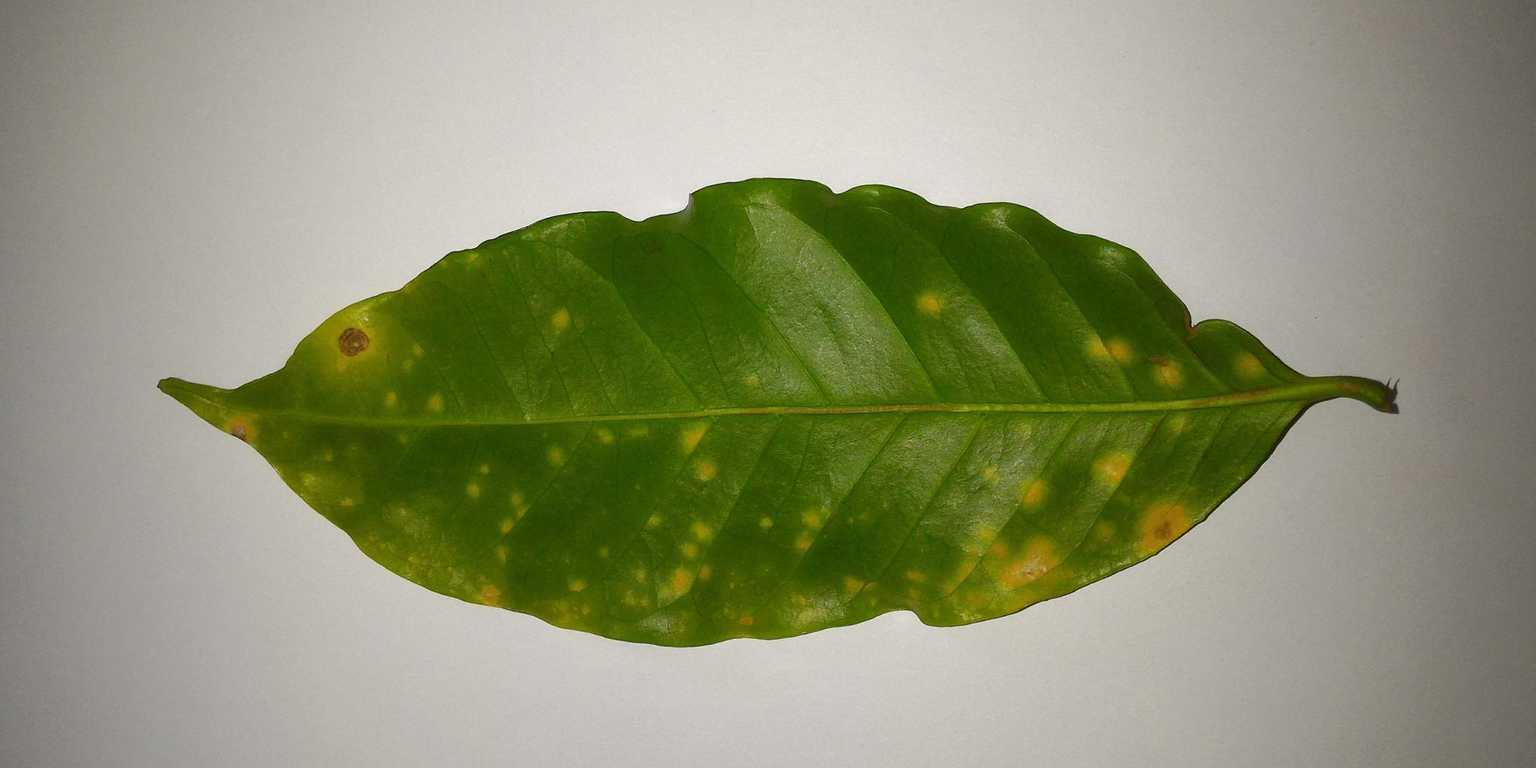Cercospora: (321, 315, 385, 369)
Rust: (1081, 449, 1195, 560)
